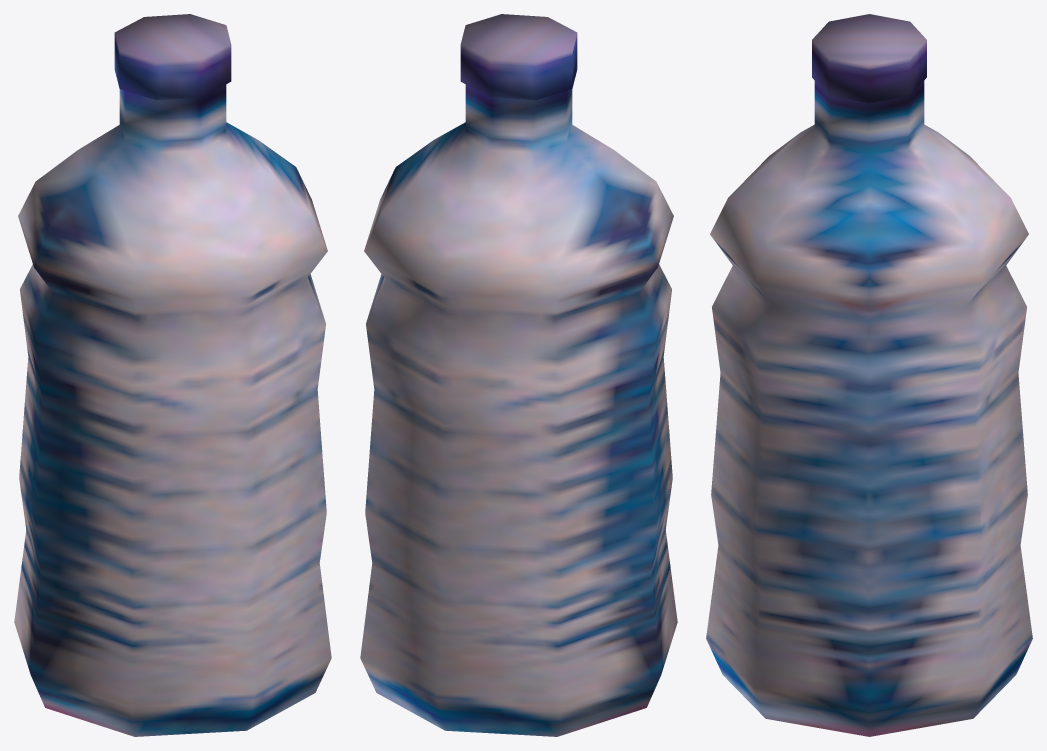
The model's file is Botella de agua.fbx.
3 views of the same model, side by side, from view 1: azimuth 30°, elevation 25°; view 2: azimuth 150°, elevation 25°; view 3: azimuth 270°, elevation 25° (orthographic).
Visible parts, largest first — view 1: Botella; view 2: Botella; view 3: Botella.
Boxes of the visible parts, x1,y1,x2,y2 form: Botella: (14, 14, 331, 736); Botella: (360, 14, 677, 736); Botella: (706, 14, 1032, 736).
Size of the model in its own units: 87.37 by 187 by 87.37.
